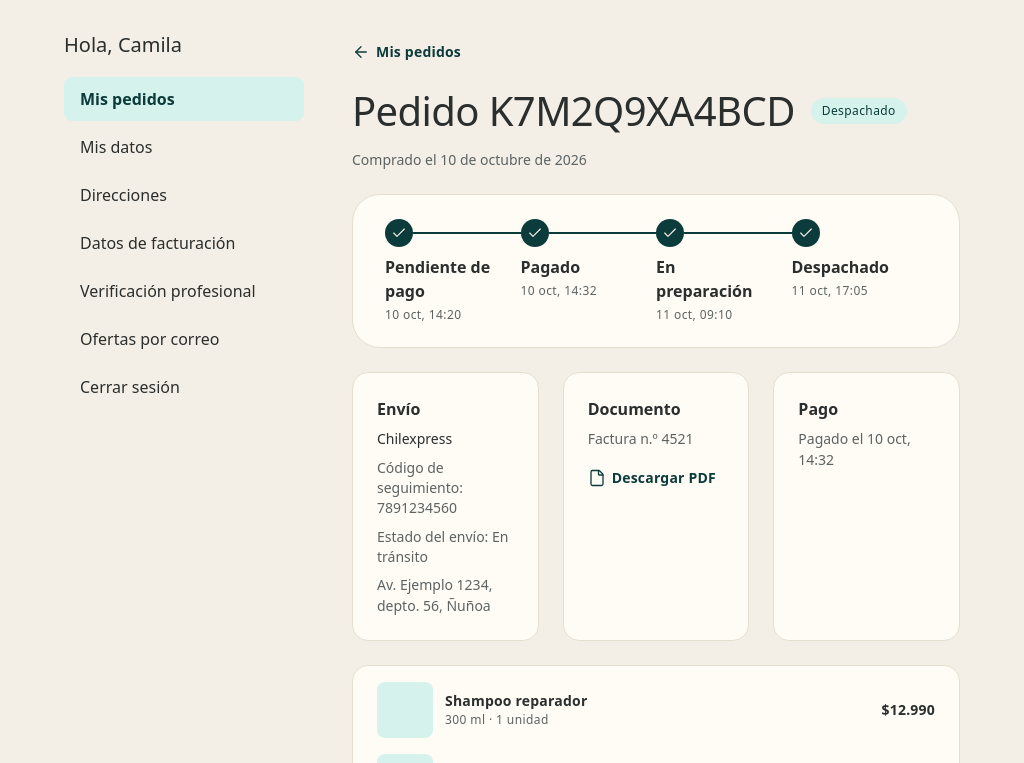
Documento del pedido (SCRUM-128) › E9-H4 FE · disponible: si la descarga falla, muestra el mensaje del backend y deja reintentar
Click the button "Descargar PDF" at [652, 478], box [588,458,716,498]
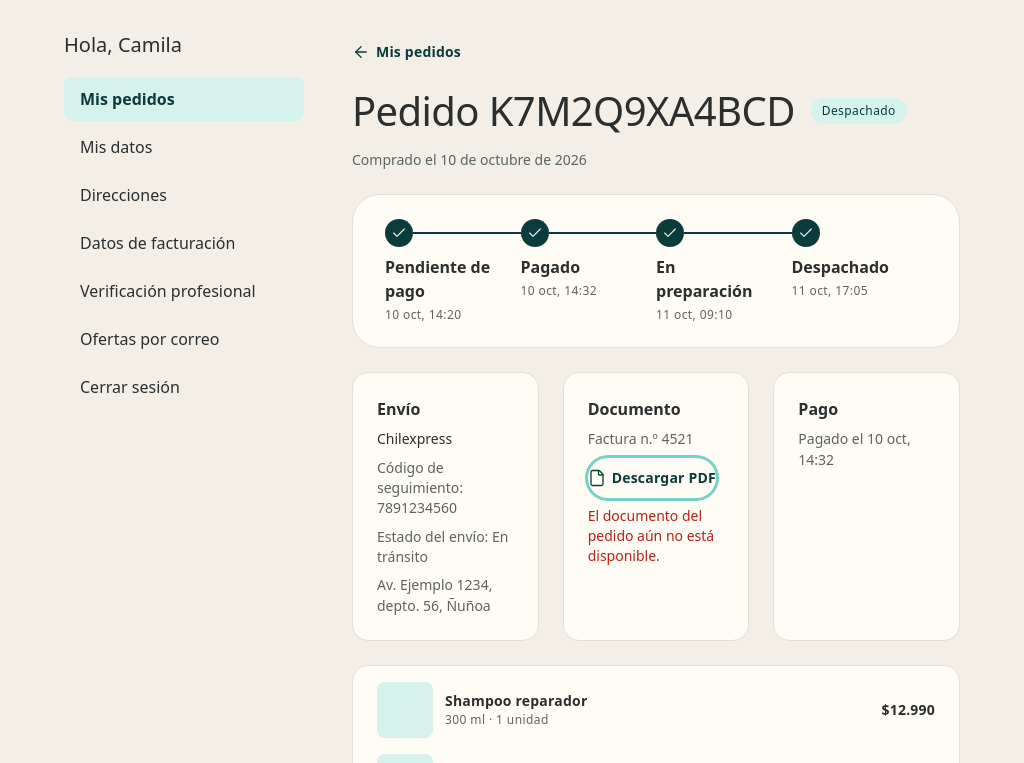
Expected: the message reads "El documento del pedido aún no está disponible.", [588,506,714,565]
